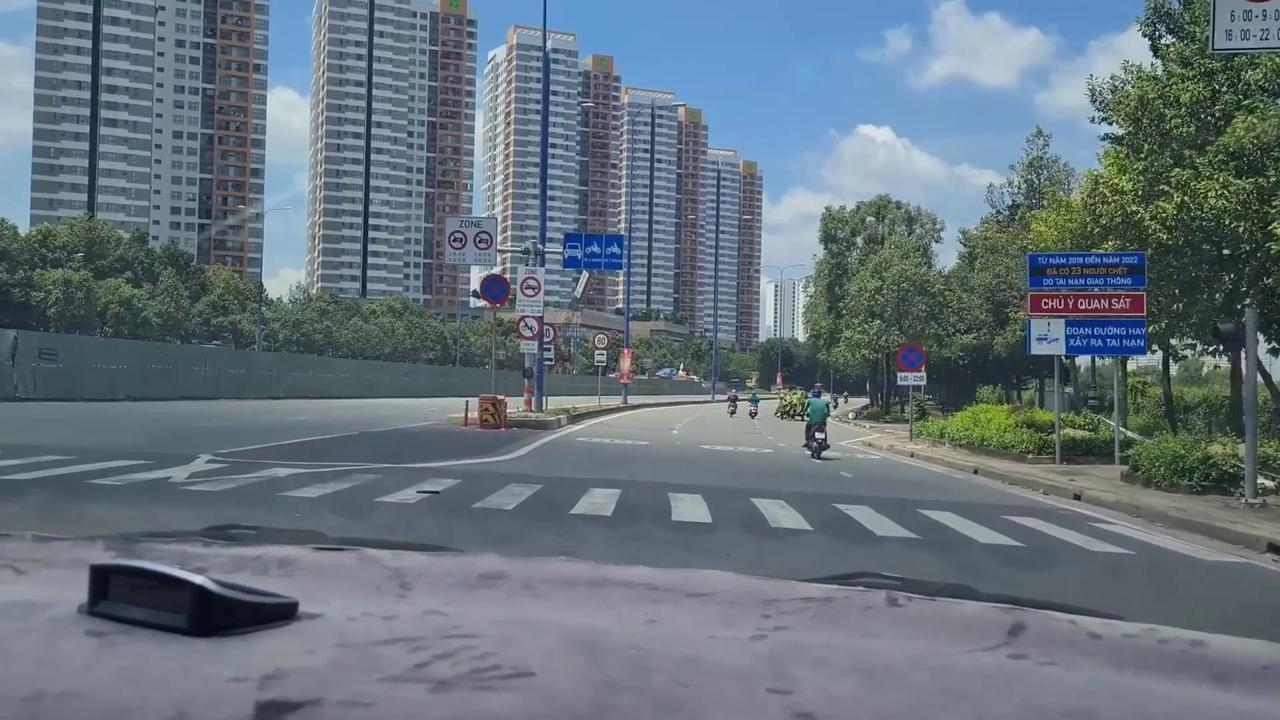Biển phụ: (897, 371, 927, 385), (519, 340, 539, 355), (594, 349, 607, 367)
Cấm cac phương tiện hoạt động trong khung giờ cố định: (443, 215, 498, 267), (517, 266, 544, 317)
Cấm dừng - Cấm đỗ: (478, 273, 511, 308), (895, 343, 928, 372)
Cấm xe máy: (516, 314, 542, 341)
Giới hạn tốc độ 80Km/h: (593, 331, 610, 350)
Khác: (1026, 251, 1147, 357)
Làn đường cho từng xe: (561, 230, 624, 272)
